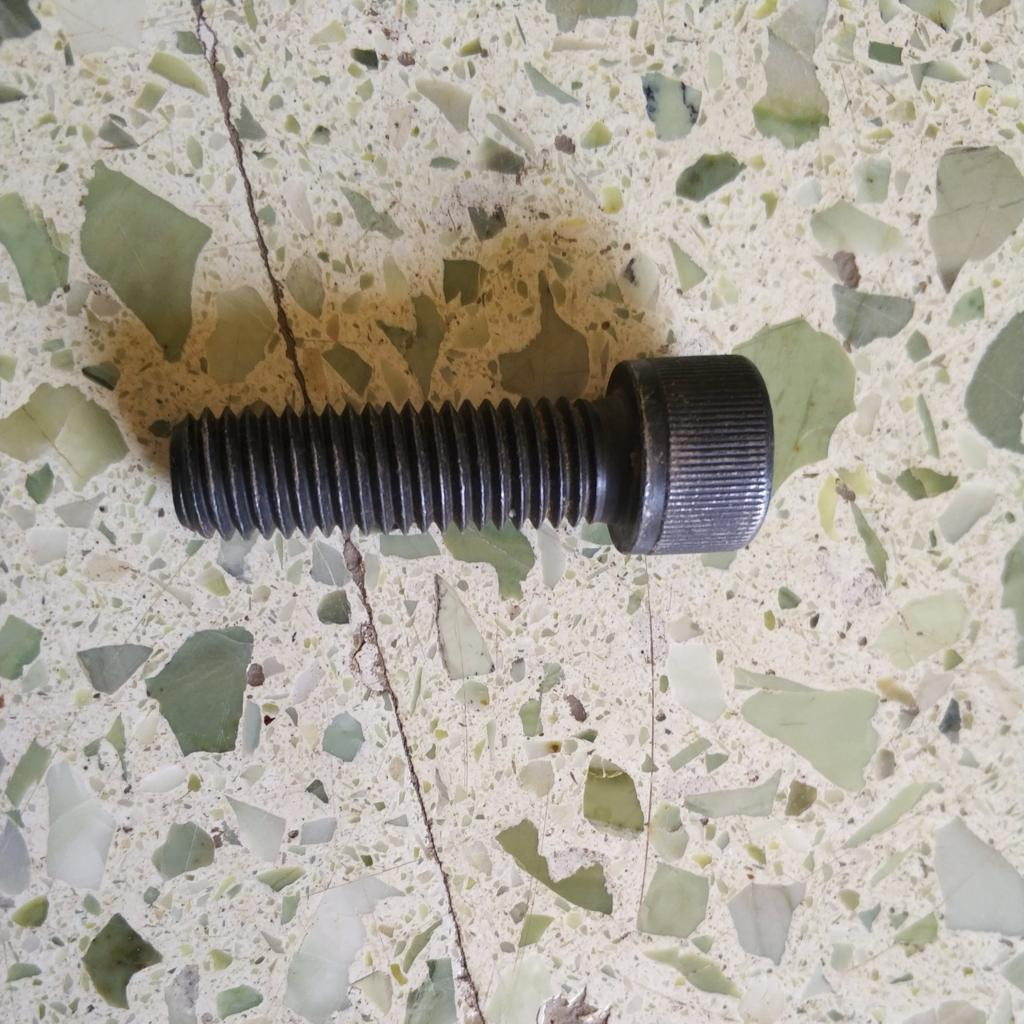screwtype1black: (157, 352, 776, 560)
